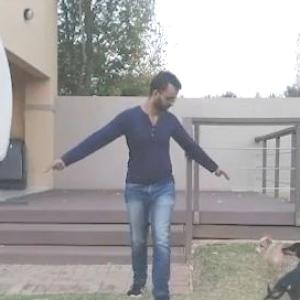land: (22, 67, 255, 299)
